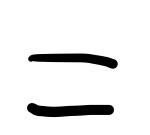eqv: (23, 51, 120, 118)
